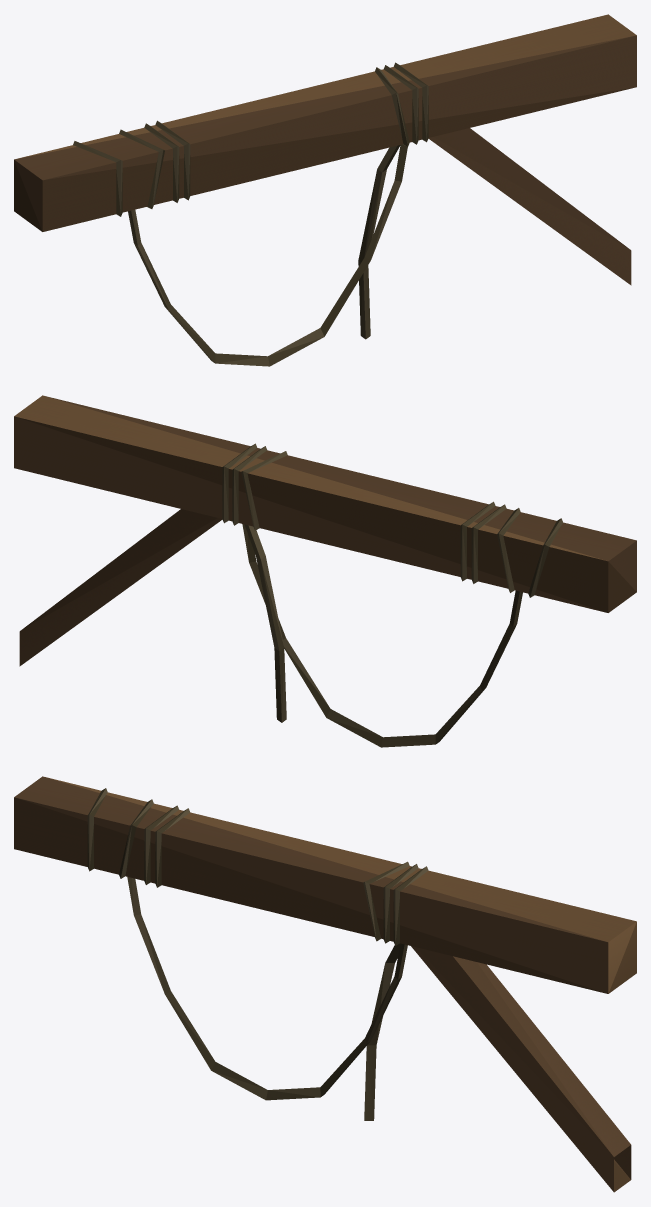
The model's file is Wood_8A_Lod0.fbx.
3 views of the same model, one above another, from view 1: azimuth 30°, elevation 25°; view 2: azimuth 150°, elevation 25°; view 3: azimuth 330°, elevation 25° (orthographic).
Parts seen in each view (by area): view 1: polySurface1098; view 2: polySurface1098; view 3: polySurface1098.
Part boxes in pixels (bbox=[...]): polySurface1098: bbox=[14, 14, 636, 366]; polySurface1098: bbox=[14, 395, 636, 747]; polySurface1098: bbox=[14, 776, 636, 1192].
Size of the model in its own units: 600 by 248 by 55.
1 material, 1 textured.
